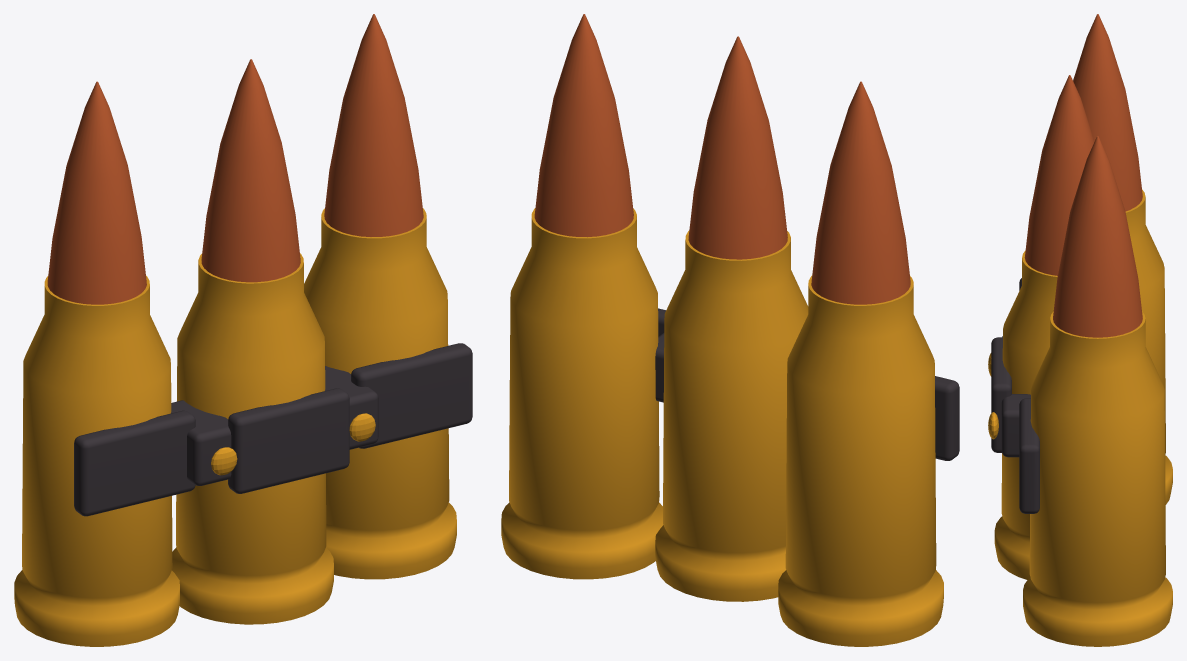
The model's file is ammo-lmg.glb.
3 views of the same model, side by side, from view 1: azimuth 30°, elevation 25°; view 2: azimuth 150°, elevation 25°; view 3: azimuth 270°, elevation 25° (orthographic). The views are drawn at different scales.
Visible parts, largest first — view 1: ammo-lmg-surfaces; view 2: ammo-lmg-surfaces; view 3: ammo-lmg-surfaces.
Boxes of the visible parts, bbox=[...] form: ammo-lmg-surfaces: bbox=[14, 14, 472, 646]; ammo-lmg-surfaces: bbox=[501, 14, 959, 646]; ammo-lmg-surfaces: bbox=[988, 14, 1172, 646].
Bounding box in the file's own units: 0.547 × 0.661 × 0.2303.
Materials: 3 (3 with a texture image).
